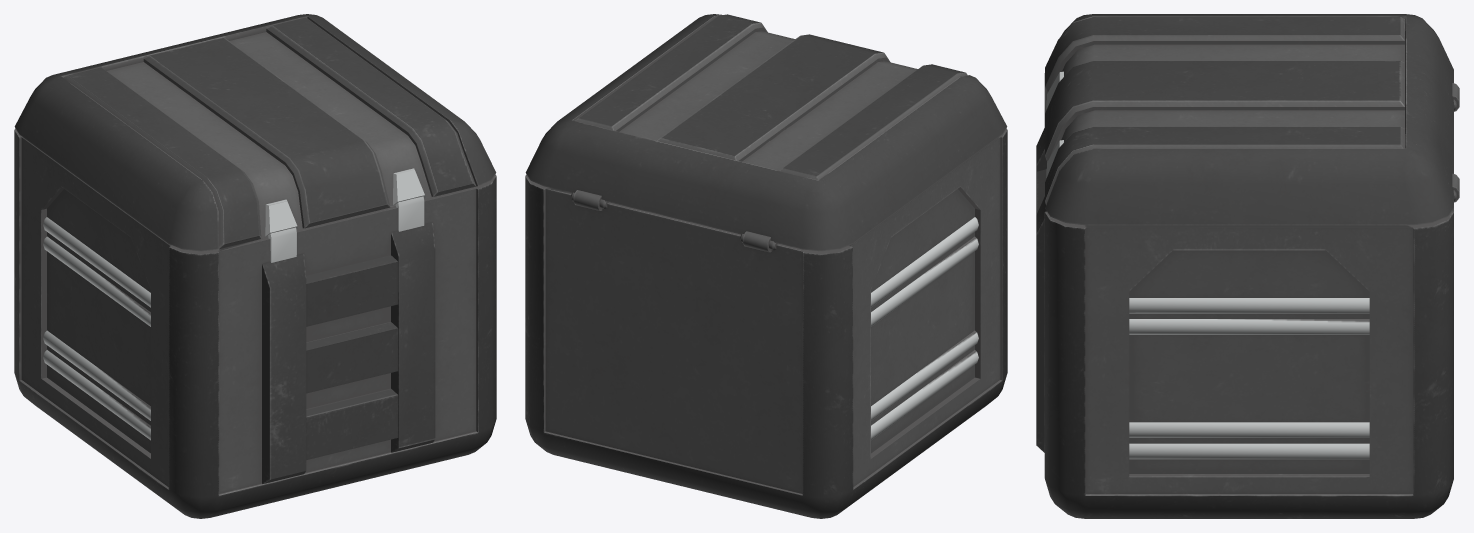
The model's file is ScifiContainer.fbx.
The picture shows the model from 3 angles, left to right: view 1: azimuth 30°, elevation 25°; view 2: azimuth 150°, elevation 25°; view 3: azimuth 270°, elevation 25°; orthographic projection. The views are drawn at different scales.
Visible parts, largest first — view 1: Container; view 2: Container; view 3: Container.
Part boxes in pixels (<box>): Container: <box>14,14,496,518</box>; Container: <box>525,14,1007,518</box>; Container: <box>1036,14,1459,518</box>.
Bounding box in the file's own units: 102 × 100 × 106.
1 material, 1 textured.
